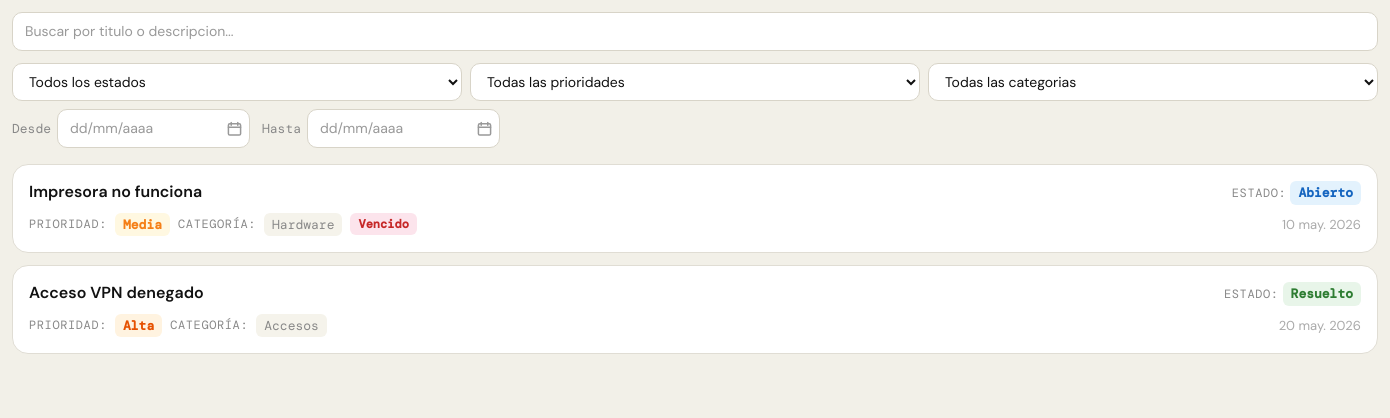
Scenario: TicketList — busqueda y filtros de fecha › filtra por fecha hasta
# dateTo before second ticket
In the field with placeholder "dd/mm/aaaa" next to "Hasta": (404, 128) [307,109,500,148], type "12/05/2026"
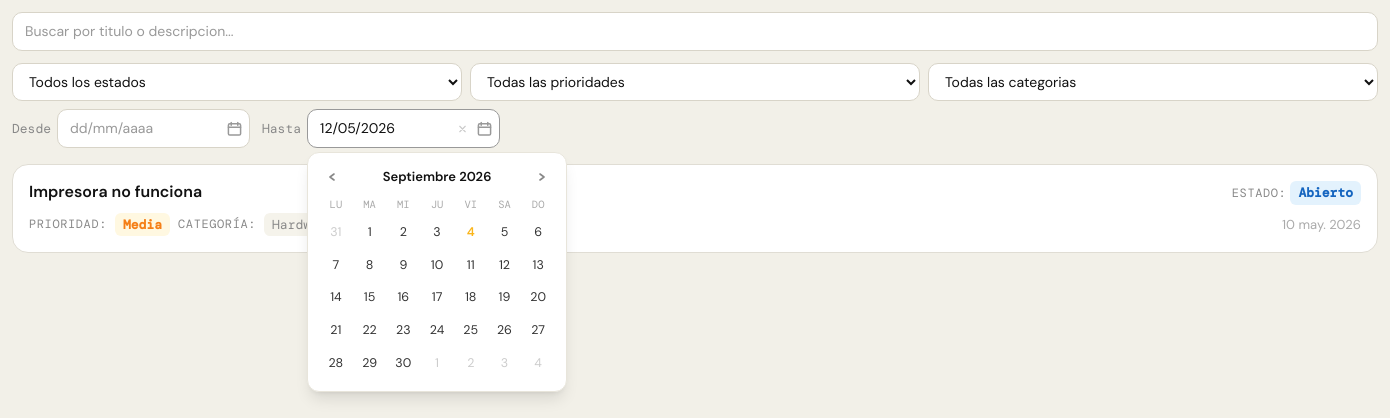
Check: the text "Impresora no funciona" is shown, box [29,181,202,202]
Check: the button "Acceso VPN denegado" is gone
